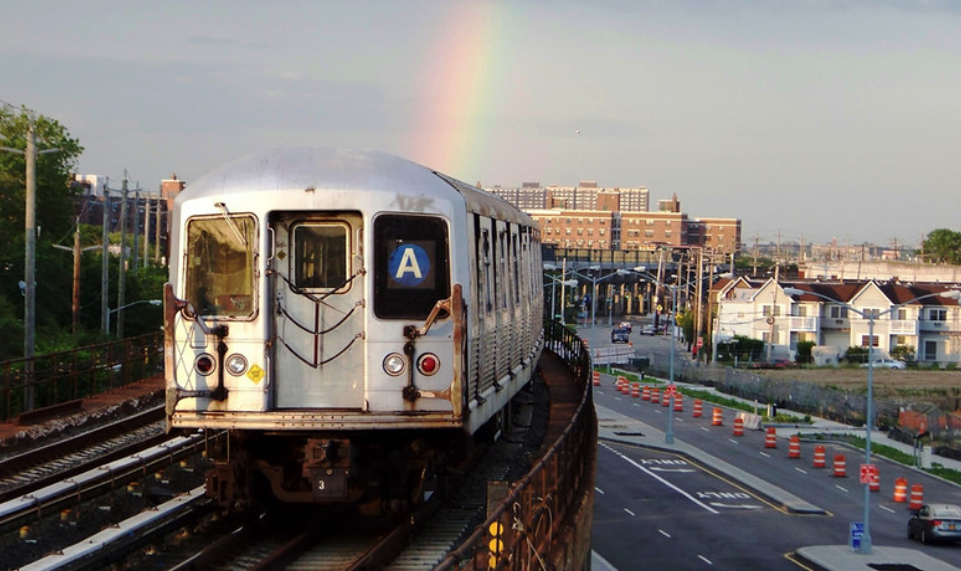train: (165, 147, 470, 435)
